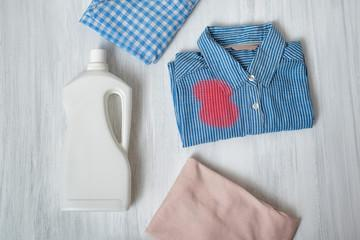gun: (191, 79, 241, 126)
